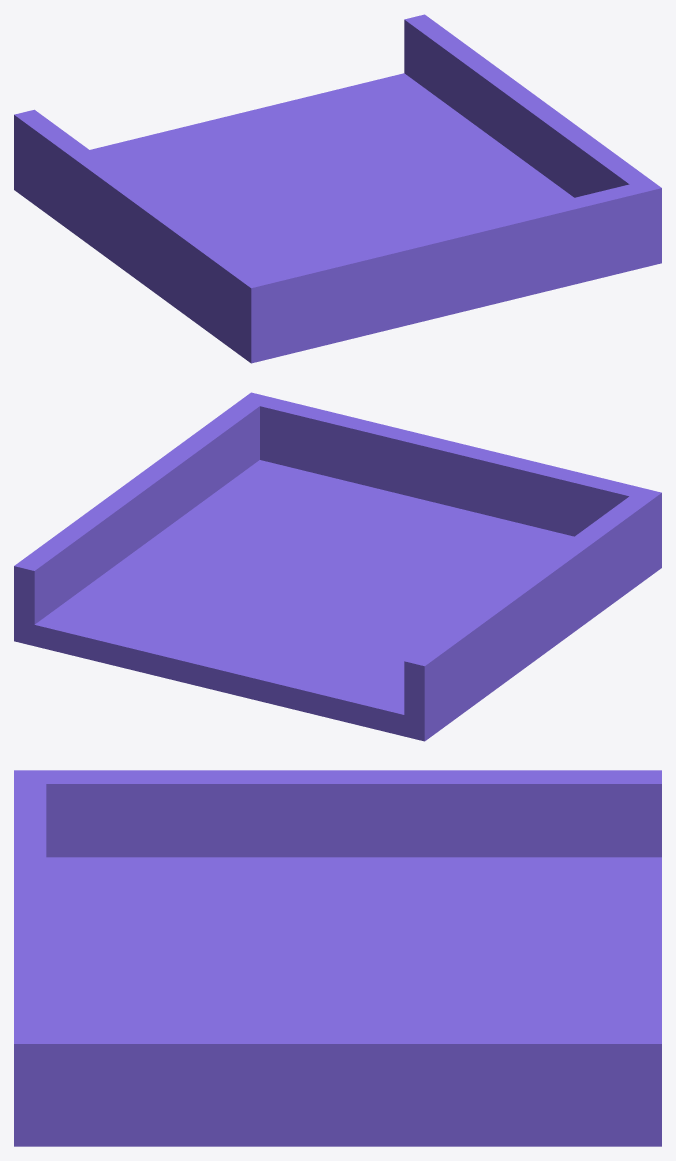
File: PurpleRoof_3Edges.glb
3 views of the same model, one above another, from view 1: azimuth 30°, elevation 25°; view 2: azimuth 150°, elevation 25°; view 3: azimuth 270°, elevation 25° (orthographic). The views are drawn at different scales.
Visible parts, largest first — view 1: roof_flat_3Edges_purple; view 2: roof_flat_3Edges_purple; view 3: roof_flat_3Edges_purple.
Boxes of the visible parts, bbox=[...] form: roof_flat_3Edges_purple: bbox=[14, 14, 661, 363]; roof_flat_3Edges_purple: bbox=[14, 392, 661, 741]; roof_flat_3Edges_purple: bbox=[14, 770, 661, 1146].
Size of what is drawn, in the model's own units: 4 by 0.7 by 4.
1 material, 1 textured.
